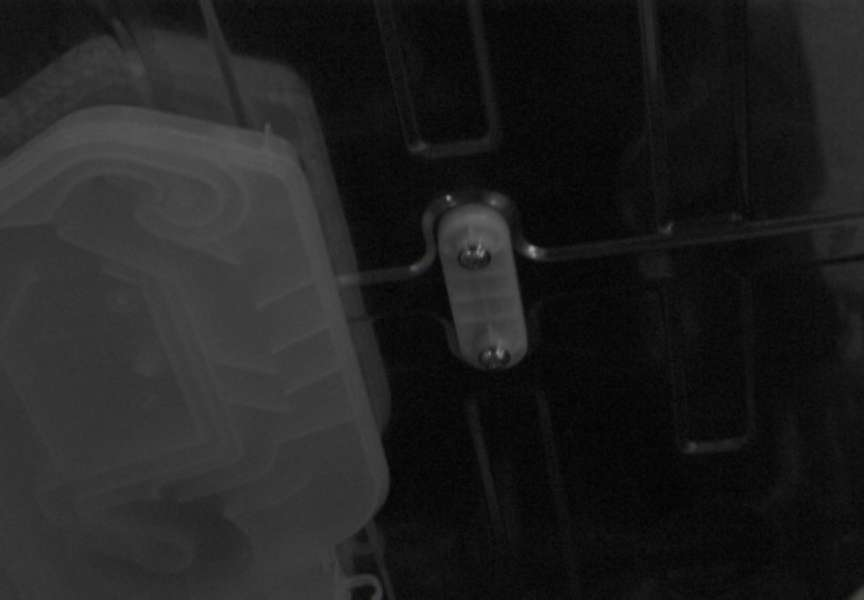screw: (458, 242, 492, 270), (478, 345, 511, 370)
